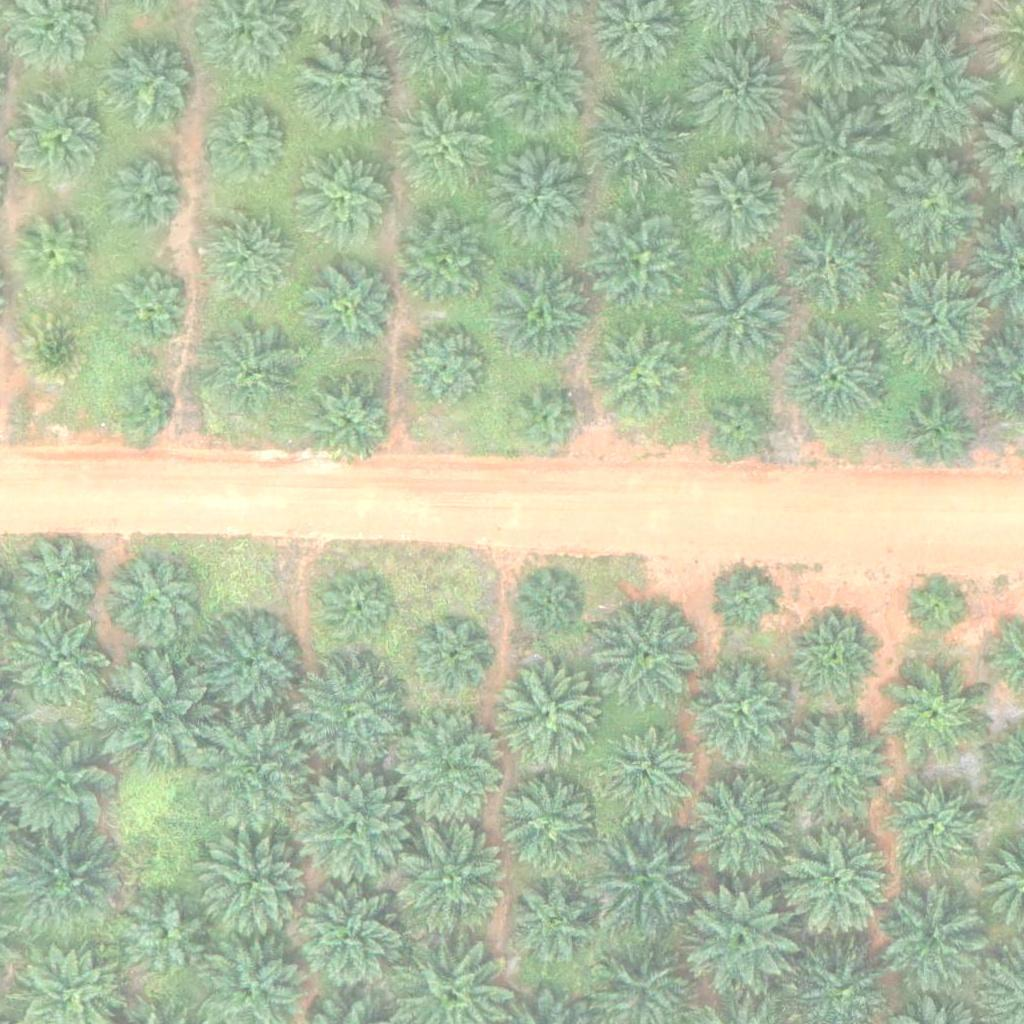Kelapa_Sawit: (92, 653, 217, 779), (195, 712, 320, 838), (289, 877, 414, 1003), (390, 819, 515, 945), (581, 810, 706, 936), (681, 879, 806, 1005), (777, 822, 902, 947), (878, 36, 991, 150), (201, 830, 314, 944), (393, 712, 506, 825), (296, 768, 408, 882), (880, 270, 992, 383), (775, 102, 887, 215), (8, 825, 120, 938), (291, 653, 403, 766), (783, 218, 883, 319), (787, 325, 887, 426), (689, 41, 789, 142), (690, 154, 790, 255), (690, 263, 790, 364), (589, 86, 689, 187), (591, 212, 691, 313), (591, 324, 691, 425), (497, 36, 597, 137), (491, 144, 591, 245), (492, 266, 592, 367), (398, 93, 498, 194), (397, 210, 497, 311), (296, 35, 396, 136), (295, 151, 395, 252), (498, 662, 598, 763), (497, 777, 597, 878), (600, 603, 700, 704), (594, 724, 694, 825), (691, 660, 791, 761), (691, 772, 791, 873), (786, 717, 886, 818), (888, 664, 988, 765), (883, 779, 983, 880), (884, 893, 984, 994), (884, 158, 984, 258), (298, 368, 398, 468), (204, 318, 304, 418), (9, 610, 109, 710), (199, 616, 299, 716), (504, 873, 604, 973), (403, 324, 491, 412), (17, 95, 105, 183), (123, 891, 211, 979), (308, 264, 395, 352), (202, 95, 289, 183), (204, 207, 291, 295), (107, 44, 194, 132), (15, 531, 102, 619), (109, 557, 196, 645), (797, 613, 884, 701), (17, 220, 92, 296), (107, 159, 182, 235), (320, 574, 395, 650), (509, 383, 584, 459), (114, 268, 189, 344), (18, 309, 93, 385), (417, 618, 492, 693), (901, 397, 976, 472), (705, 391, 780, 466), (518, 572, 581, 635), (116, 381, 178, 444), (718, 570, 780, 633), (904, 571, 966, 634)
